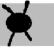not correct: (1, 3, 33, 44)
